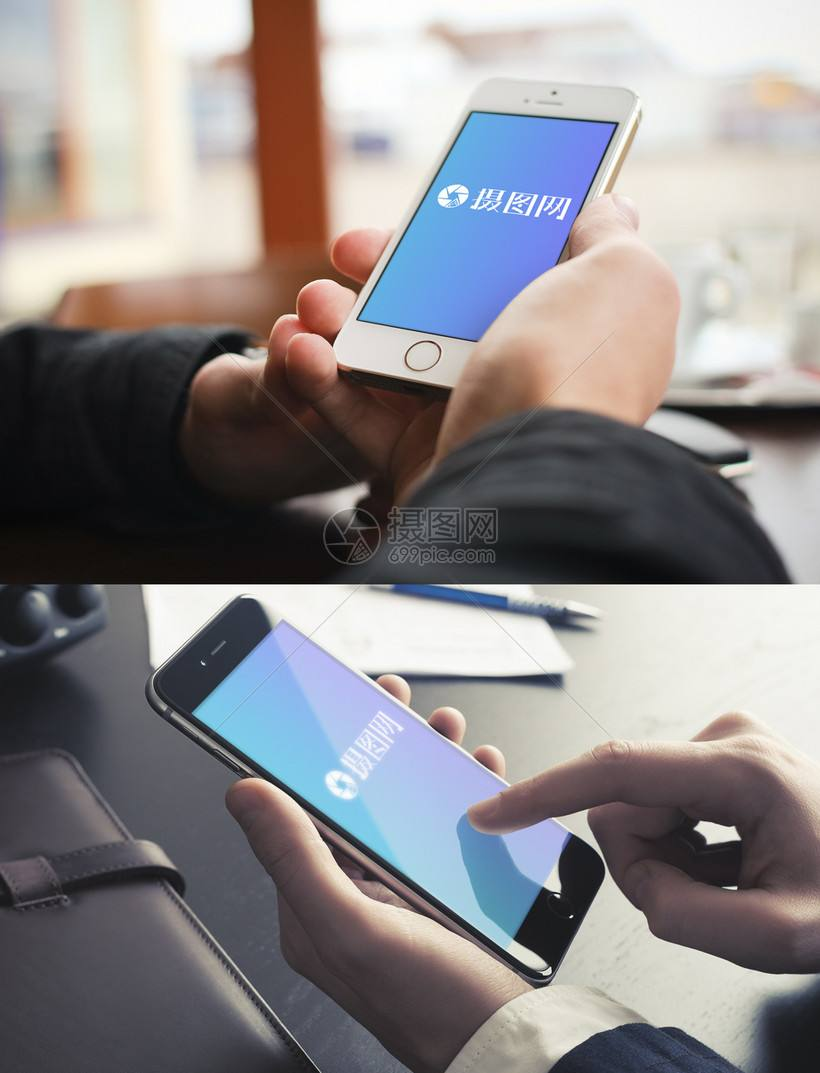phone: (134, 592, 820, 1050), (192, 67, 686, 464)
